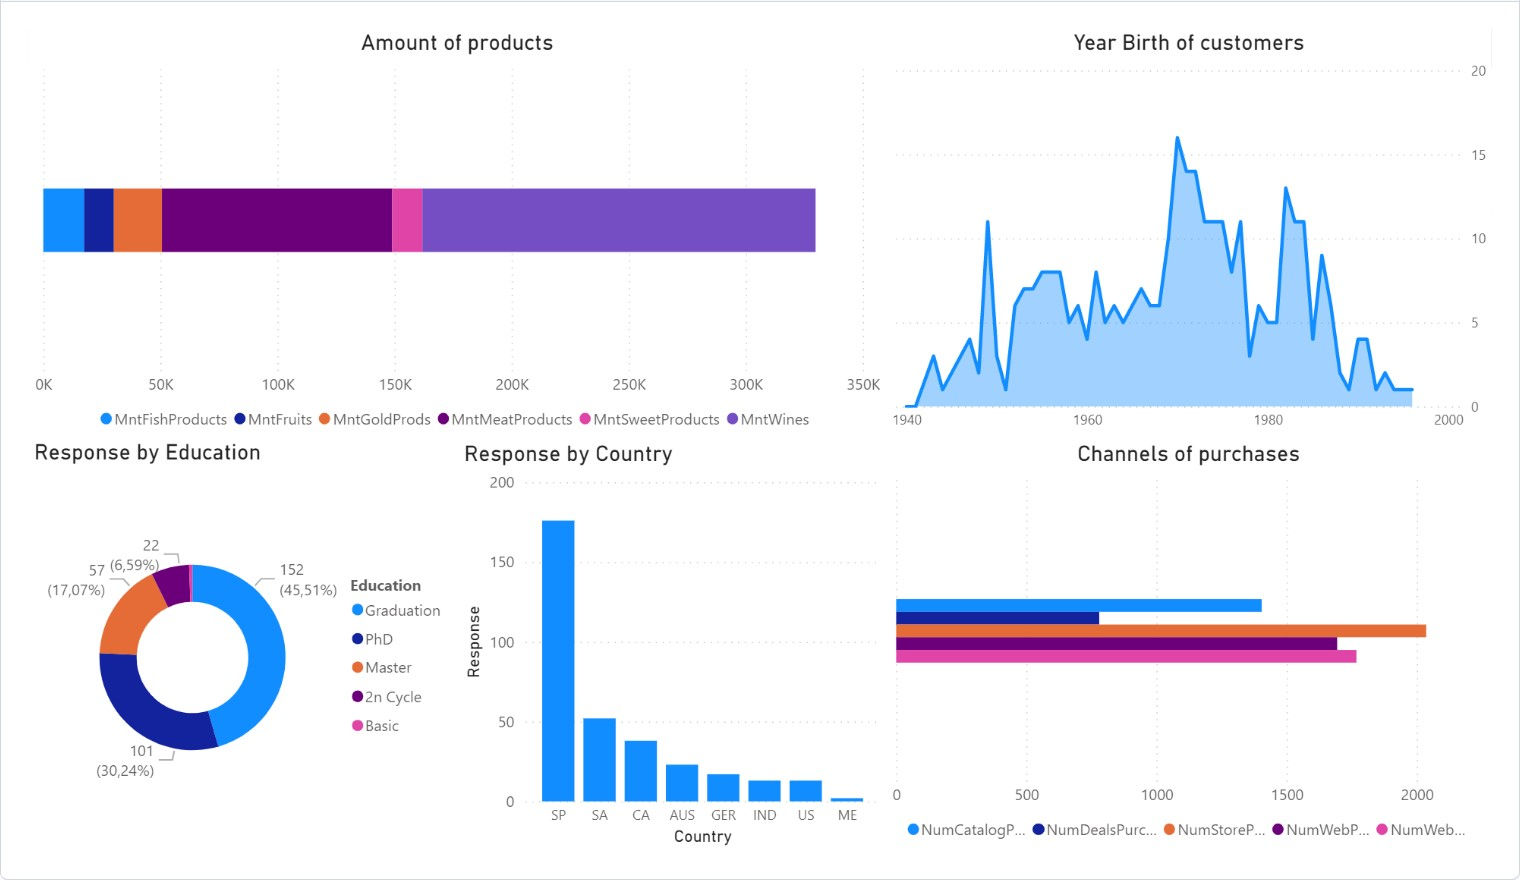

The dashboard page shown, as its layout file describes it:
{"tool":"powerbi","page":{"name":"Page 1","canvas":[1280,720],"ordinal":0},"visuals":[{"type":"clusteredColumnChart","fields":{"Category":["marketing_data.Country"],"Y":["Sum(marketing_data.Response)"]},"box":[376,359.9,374.5,359.9],"z":0},{"type":"donutChart","fields":{"Category":["marketing_data.Education"],"Y":["Sum(marketing_data.Response)"]},"box":[0,358.5,374.5,361],"z":1000},{"type":"barChart","title":"Amount of products","fields":{"Y":["Sum(marketing_data.MntFishProducts)","Sum(marketing_data.MntFruits)","Sum(marketing_data.MntGoldProds)","Sum(marketing_data.MntMeatProducts)","Sum(marketing_data.MntSweetProducts)","Sum(marketing_data.MntWines)"],"Category":["marketing_data.Response"]},"box":[0,0,750.3,359.7],"z":2000},{"type":"clusteredBarChart","title":"Channels of purchases","fields":{"Y":["Sum(marketing_data.NumCatalogPurchases)","Sum(marketing_data.NumDealsPurchases)","Sum(marketing_data.NumStorePurchases)","Sum(marketing_data.NumWebPurchases)","Sum(marketing_data.NumWebVisitsMonth)"],"Category":["marketing_data.Response"]},"box":[750.3,359.7,529.7,359.7],"z":3000},{"type":"areaChart","title":"Year Birth of customers","fields":{"Category":["marketing_data.Year_Birth"],"Y":["Sum(marketing_data.Response)"]},"box":[750,0,530,360],"z":3001}]}

Visuals, with their boxes in screenshot pixels (x1, y1, x2, y2), scaled from the page's 1280x720 canvas onto the 1521x881 screenshot:
clusteredColumnChart - marketing_data.Country x Sum(marketing_data.Response): 447, 440, 892, 880
donutChart - marketing_data.Education x Sum(marketing_data.Response): 0, 439, 445, 880
"Amount of products" barChart: 0, 0, 892, 440
"Channels of purchases" clusteredBarChart: 892, 440, 1520, 880
"Year Birth of customers" areaChart: 891, 0, 1520, 441
